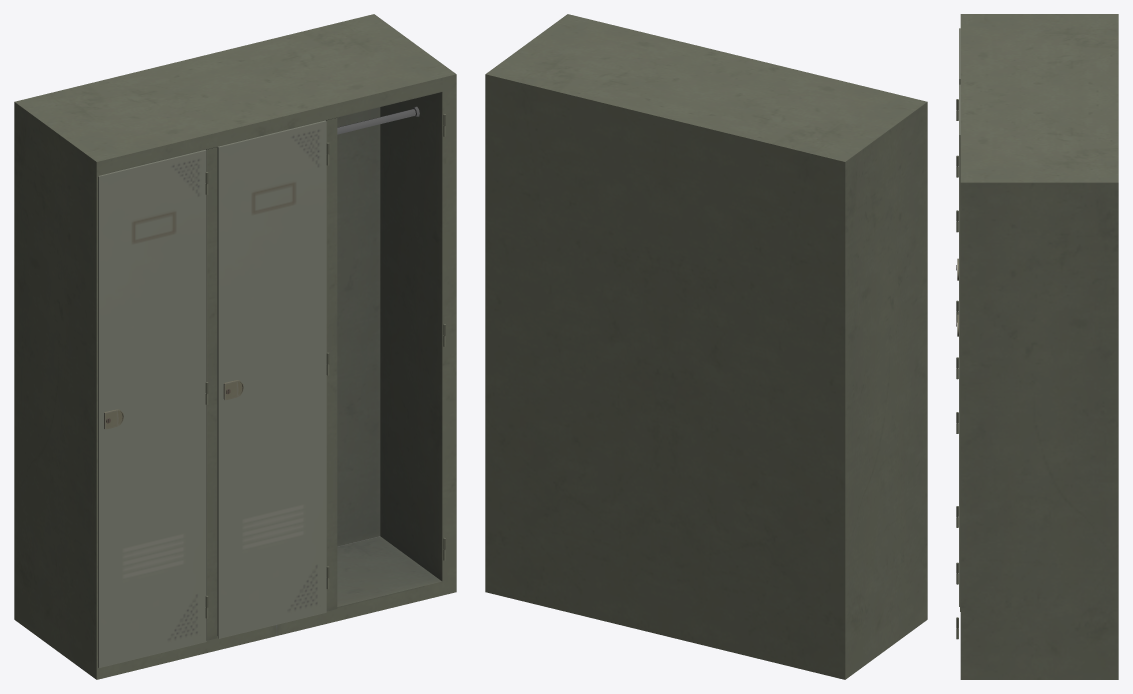
The model's file is cabinet_a_1.fbx.
The picture shows the model from 3 angles, left to right: view 1: azimuth 30°, elevation 25°; view 2: azimuth 150°, elevation 25°; view 3: azimuth 270°, elevation 25°; orthographic projection. The views are drawn at different scales.
Visible parts, largest first — view 1: cabinet010; view 2: cabinet010; view 3: cabinet010.
Part boxes in pixels (bbox=[...]): cabinet010: bbox=[14, 14, 456, 679]; cabinet010: bbox=[485, 14, 927, 679]; cabinet010: bbox=[956, 14, 1118, 679].
Bounding box in the file's own units: 132 × 53.81 × 182.
